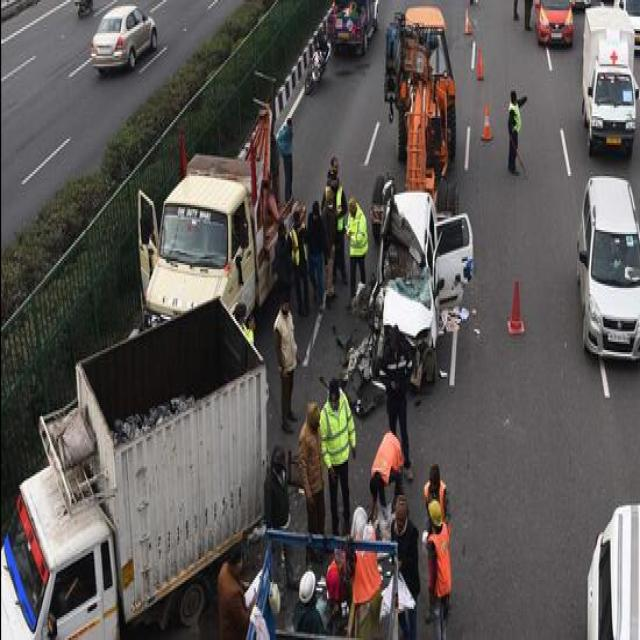accident: (345, 178, 474, 413)
car: (577, 178, 640, 359), (90, 4, 157, 73)
truck: (3, 305, 265, 639), (139, 105, 279, 317), (384, 7, 456, 195), (583, 9, 640, 160)
